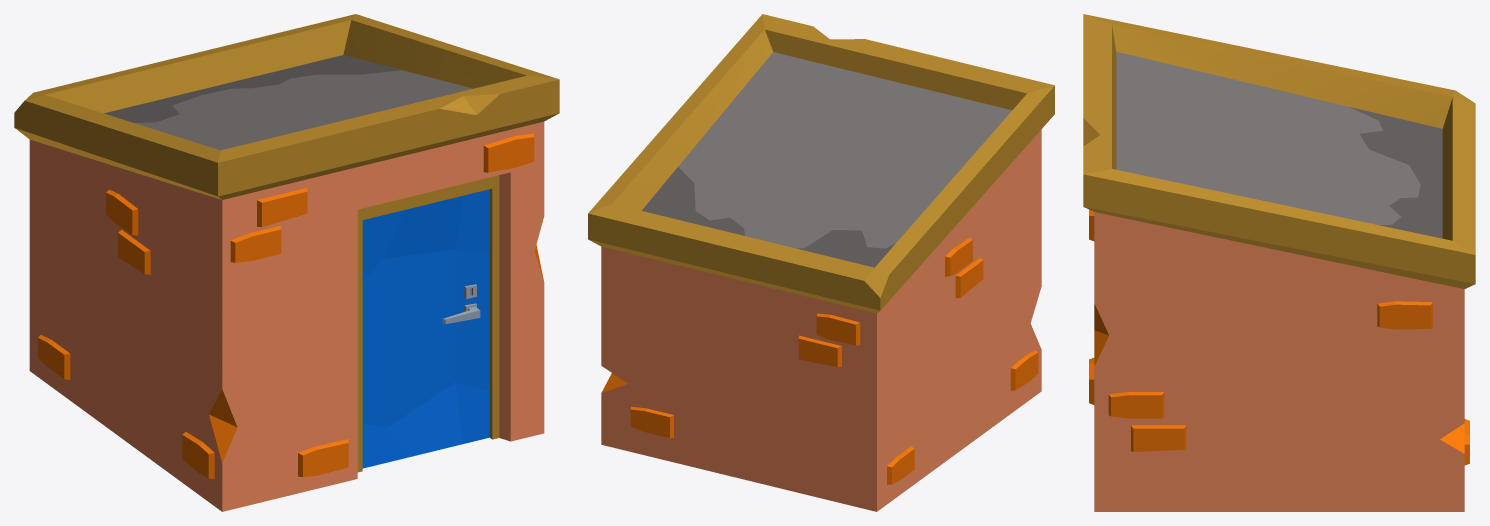
File: SM_Bld_Roof_Access_01_edit.fbx
3 views of the same model, side by side, from view 1: azimuth 30°, elevation 25°; view 2: azimuth 150°, elevation 25°; view 3: azimuth 270°, elevation 25° (orthographic). The views are drawn at different scales.
Parts seen in each view (by area): view 1: SM_Bld_Roof_Access_01; view 2: SM_Bld_Roof_Access_01; view 3: SM_Bld_Roof_Access_01.
Boxes of the visible parts, x1=… form: SM_Bld_Roof_Access_01: x1=14, y1=14, x2=559, y2=511; SM_Bld_Roof_Access_01: x1=588, y1=14, x2=1054, y2=511; SM_Bld_Roof_Access_01: x1=1083, y1=14, x2=1475, y2=511.
Bounding box in the file's own units: 276 × 274 × 285.
